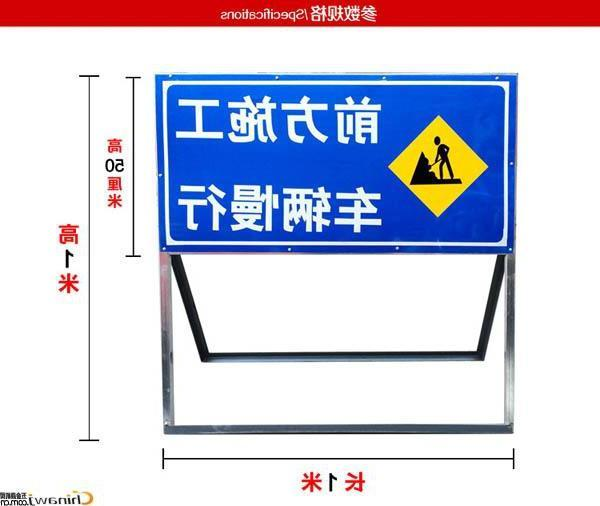sign: (156, 74, 514, 252)
